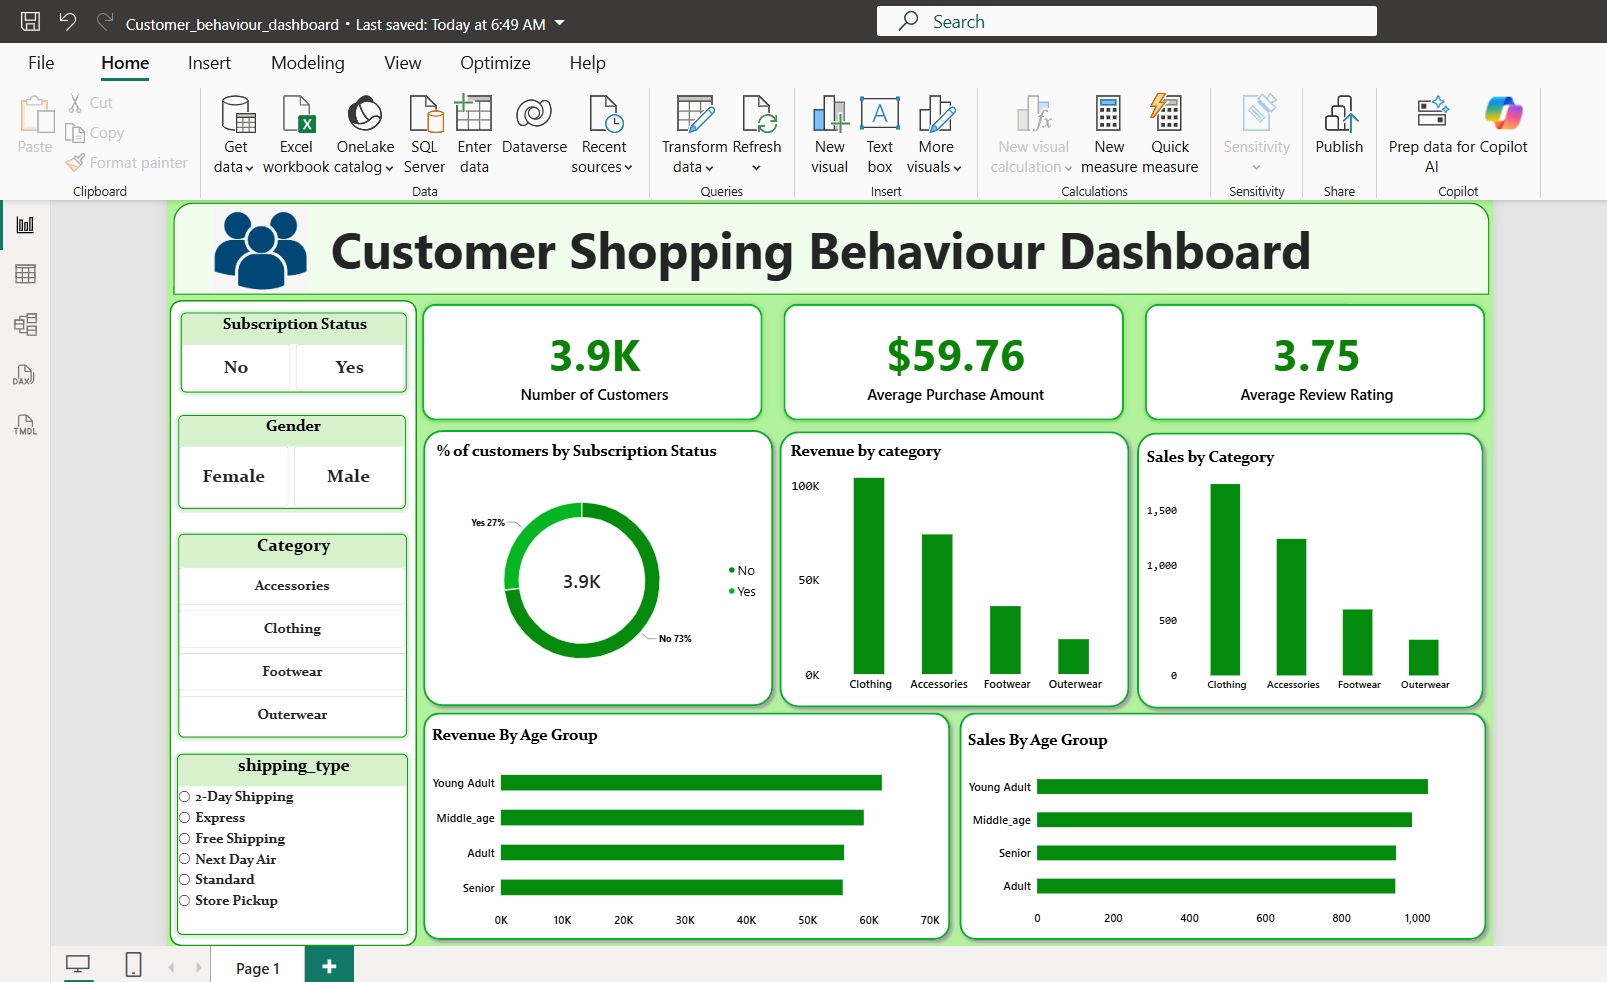

The dashboard page shown, as its layout file describes it:
{"tool":"powerbi","page":{"name":"Page 1","canvas":[1920,1080],"ordinal":0},"visuals":[{"type":"shape","box":[1138.3,732.9,781,347.5],"z":500},{"type":"shape","box":[3.6,144.4,358.3,935.6],"z":1000},{"type":"cardVisual","fields":{"Data":["customer customers.Number of Customers","customer customers.Average Purchase Amount","customer customers.Average Review Rating"]},"box":[358.3,139.3,1561.7,191.8],"z":2000},{"type":"shape","box":[9,3.6,1905.6,133.9],"z":3000},{"type":"textbox","box":[237.1,21.7,1469.4,105],"z":4000},{"type":"shape","box":[361.9,324.1,524.8,418],"z":5000},{"type":"donutChart","title":"% of customers by Subscription Status","fields":{"Category":["customer customers.subscription_status"],"Y":["CountNonNull(customer customers.customer_id)"]},"box":[374.6,334.8,503.1,389.1],"z":6000},{"type":"shape","box":[878.6,325.9,524.8,418],"z":7000},{"type":"shape","box":[1395.2,327.7,520,418],"z":8000},{"type":"clusteredColumnChart","title":"Revenue by category","fields":{"Category":["customer customers.category"],"Y":["Sum(customer customers.purchase_amount)"]},"box":[886.7,334.8,508.5,398.1],"z":9000},{"type":"clusteredColumnChart","title":"Sales by Category","fields":{"Category":["customer customers.category"],"Y":["CountNonNull(customer customers.customer_id)"]},"box":[1402.5,343.8,497.7,389.1],"z":10000},{"type":"advancedSlicerVisual","title":"Gender","fields":{"Values":["customer customers.gender"]},"box":[18.1,313.1,329.4,135.7],"z":11000},{"type":"advancedSlicerVisual","title":"Category","fields":{"Values":["customer customers.category"]},"box":[16.3,483.2,331.2,295],"z":12000},{"type":"listSlicer","fields":{"Values":["customer customers.shipping_type"]},"box":[14.5,801.7,334.8,262.4],"z":13000},{"type":"shape","box":[361.9,732.5,781,347.5],"z":14000},{"type":"clusteredBarChart","title":"Revenue By Age  Group","fields":{"Category":["customer customers.age_group"],"Y":["Sum(customer customers.purchase_amount)"]},"box":[367.4,745.6,767.3,329.4],"z":15000},{"type":"clusteredBarChart","title":"Sales By Age Group","fields":{"Category":["customer customers.age_group"],"Y":["CountNonNull(customer customers.customer_id)"]},"box":[1143.7,752.8,756.4,318.5],"z":16000},{"type":"advancedSlicerVisual","title":"Subscription Status","fields":{"Values":["customer customers.subscription_status"]},"box":[19.9,162.9,327.5,115.8],"z":17000},{"type":"image","box":[16.3,10.9,238.9,121.2],"z":18000}]}

Visuals, with their boxes on the page's 1920x1080 design canvas (x1, y1, x2, y2). These are canvas units, not pixel positions in the 1607x982 screenshot, which may show the page scaled, cropped or inside an application window:
shape: BBox(1138, 733, 1919, 1080)
shape: BBox(4, 144, 362, 1080)
cardVisual - customer customers.Number of Customers x customer customers.Average Purchase Amount: BBox(358, 139, 1920, 331)
shape: BBox(9, 4, 1915, 138)
textbox: BBox(237, 22, 1706, 127)
shape: BBox(362, 324, 887, 742)
"% of customers by Subscription Status" donutChart: BBox(375, 335, 878, 724)
shape: BBox(879, 326, 1403, 744)
shape: BBox(1395, 328, 1915, 746)
"Revenue by category" clusteredColumnChart: BBox(887, 335, 1395, 733)
"Sales by Category" clusteredColumnChart: BBox(1402, 344, 1900, 733)
"Gender" advancedSlicerVisual: BBox(18, 313, 348, 449)
"Category" advancedSlicerVisual: BBox(16, 483, 348, 778)
listSlicer - customer customers.shipping_type: BBox(14, 802, 349, 1064)
shape: BBox(362, 732, 1143, 1080)
"Revenue By Age  Group" clusteredBarChart: BBox(367, 746, 1135, 1075)
"Sales By Age Group" clusteredBarChart: BBox(1144, 753, 1900, 1071)
"Subscription Status" advancedSlicerVisual: BBox(20, 163, 347, 279)
image: BBox(16, 11, 255, 132)
